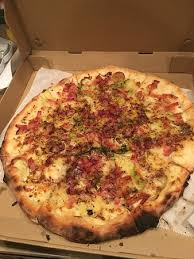pizza: (17, 77, 192, 235)
